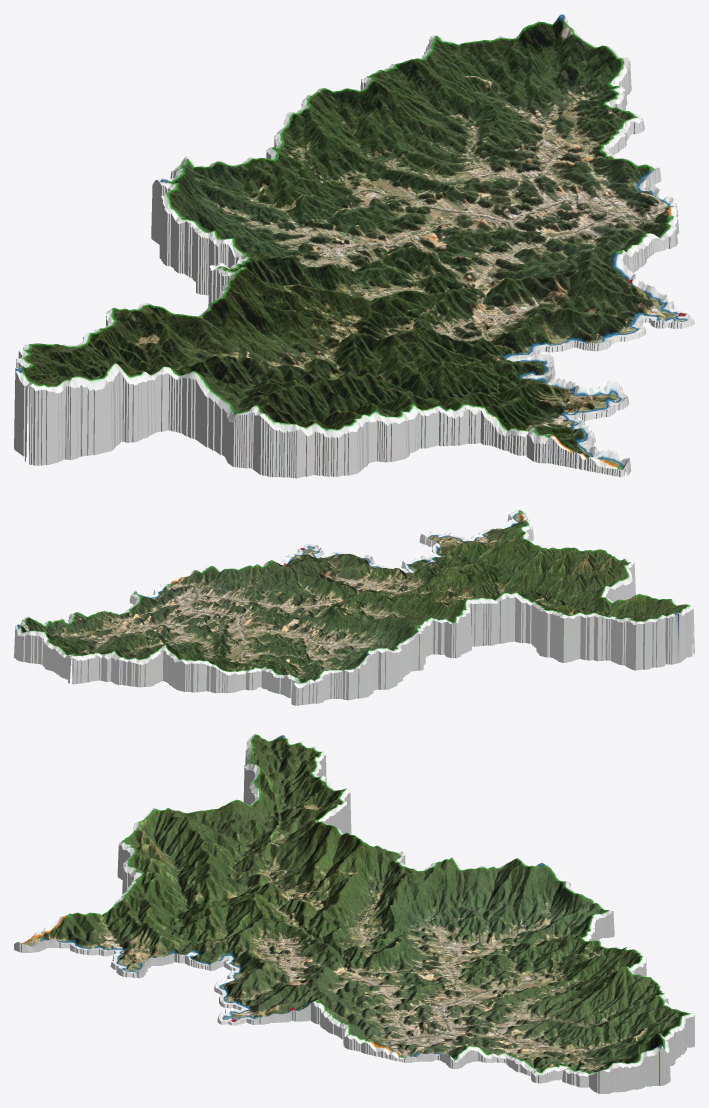
The picture shows the model from 3 angles, top to bottom: view 1: azimuth 30°, elevation 25°; view 2: azimuth 150°, elevation 25°; view 3: azimuth 270°, elevation 25°; orthographic projection. The views are drawn at different scales.
Bounding box in the file's own units: 1 × 0.0904 × 0.9503.
1 material, 1 textured.
